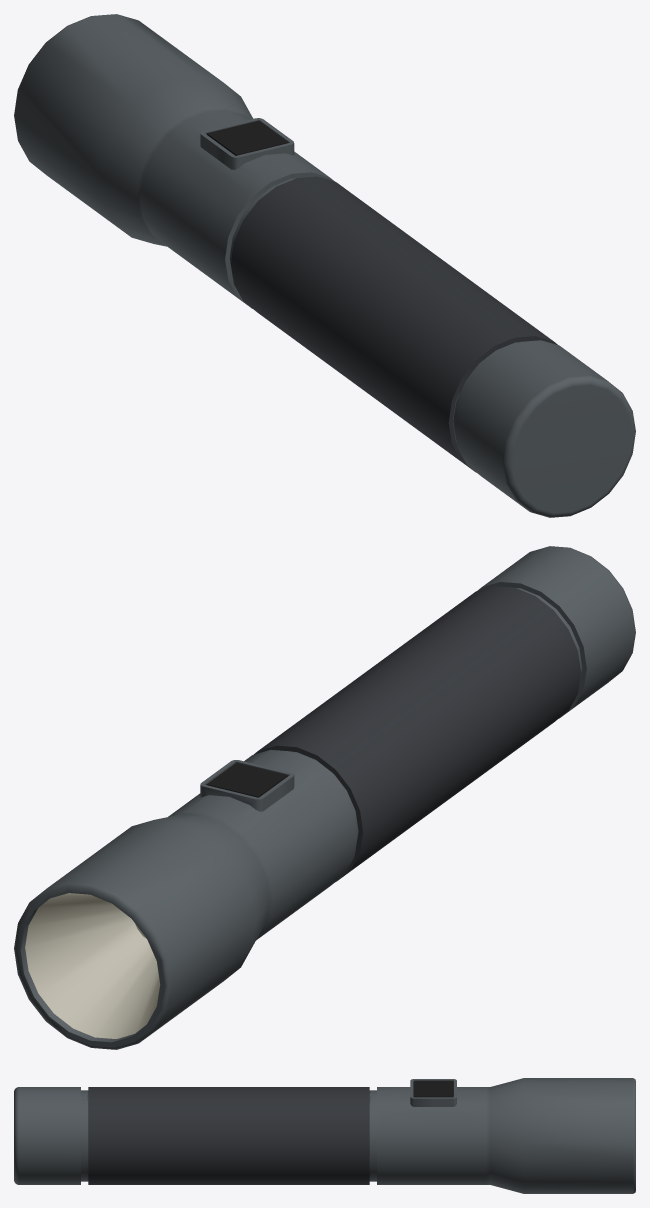
Rendered from flashlight.fbx.
3 renders of one model, top to bottom at view 1: azimuth 30°, elevation 25°; view 2: azimuth 150°, elevation 25°; view 3: azimuth 270°, elevation 25°, orthographic. The views are drawn at different scales.
Visible parts, largest first — view 1: flashlight; view 2: flashlight; view 3: flashlight.
Boxes of the visible parts, x1,y1,x2,y2 form: flashlight: (14, 14, 635, 517); flashlight: (14, 546, 635, 1049); flashlight: (14, 1078, 635, 1193).
Size of the model in its own units: 3 by 3 by 16.
Materials: 2 (2 with a texture image).
